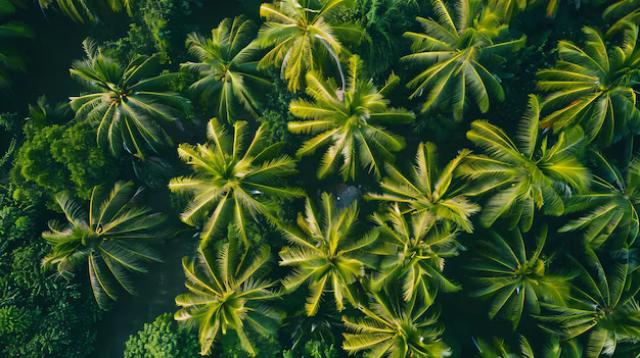trees: (57, 39, 174, 162), (169, 240, 279, 358), (171, 123, 289, 232), (45, 185, 154, 293), (401, 1, 505, 113), (293, 84, 402, 190), (542, 29, 640, 143), (472, 116, 562, 239), (279, 203, 375, 308), (180, 15, 275, 116), (254, 1, 367, 79), (571, 248, 640, 358), (481, 242, 567, 323), (572, 147, 640, 249), (384, 156, 467, 239), (377, 214, 443, 313), (357, 302, 445, 358)
